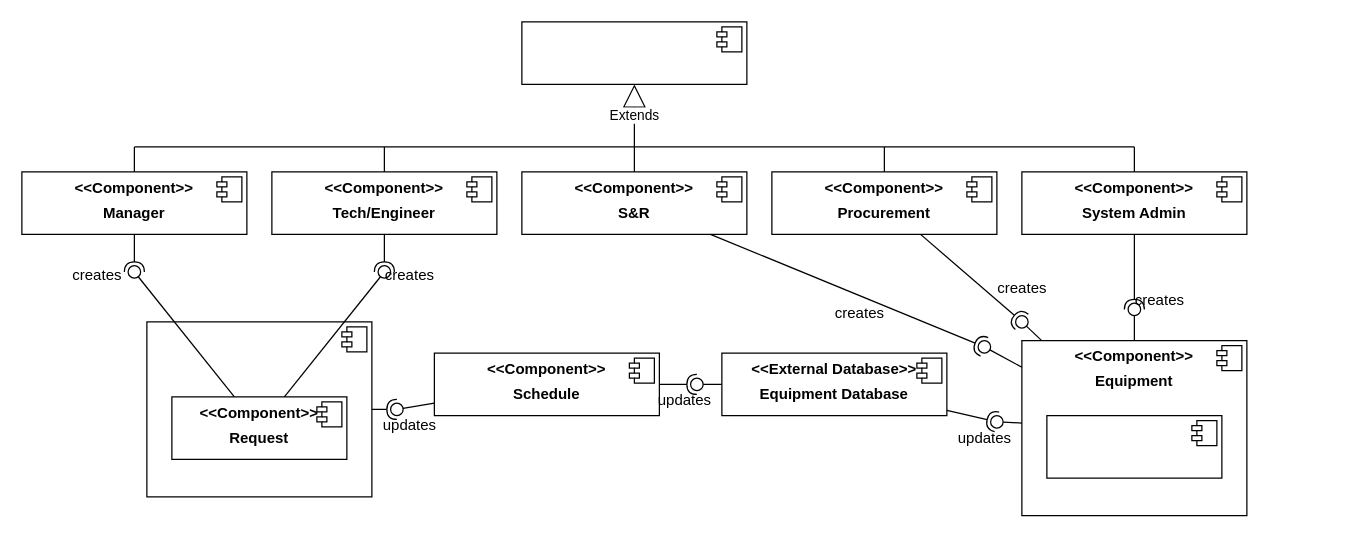
The diagram is 1363 pixels wide and 538 high, and some of its shapes have lost their labels. Here are the shapes that lost their labels. From the top down, the box of each, then its label:
(521, 21, 747, 84): <<Component>> User
(146, 321, 372, 497): <<Component>> Scheduler
(1046, 414, 1222, 478): <<Component>> Equipment History
